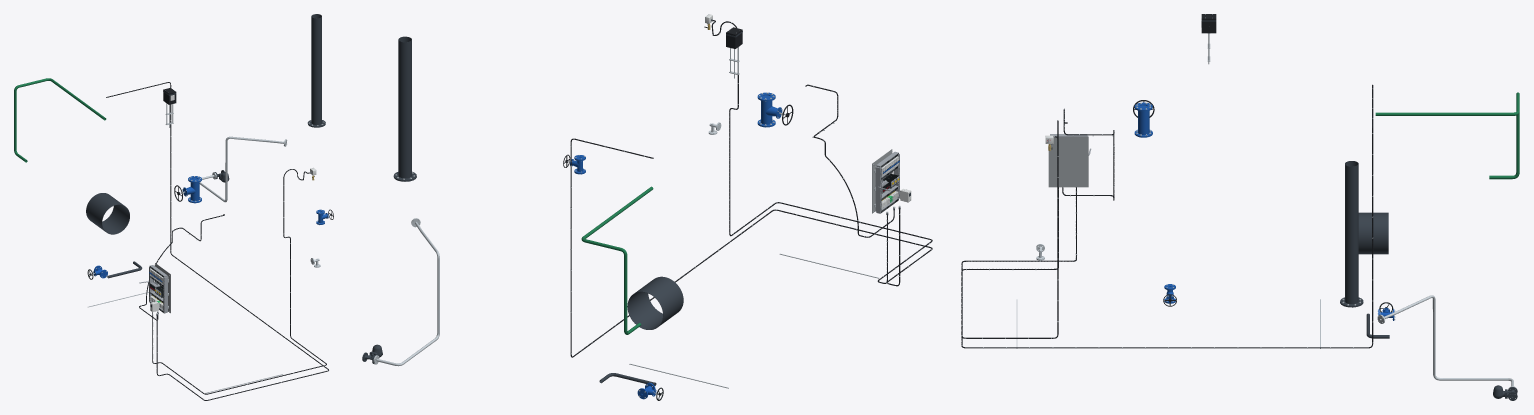
The picture shows the model from 3 angles, left to right: view 1: azimuth 30°, elevation 25°; view 2: azimuth 150°, elevation 25°; view 3: azimuth 270°, elevation 25°; orthographic projection. The views are drawn at different scales.
Parts seen in each view (by area): view 1: bdv_vent / dark, flue_spacer / dark, mod_direct_drive_cable / black, cabinet_interior / cabinet_interior_0.npz, wiring_pressure_switch_2 / black, from_economizer / green, trap_gap_to_bdv / steel, steam_manual / blue; view 2: bdv_vent / dark, flue_spacer / dark, cabinet_interior / cabinet_interior_0.npz, mod_direct_drive_cable / black, wiring_pressure_switch_2 / black, from_economizer / green, trap_gap_to_bdv / steel, steam_manual / blue; view 3: cabinet_interior / cabinet_interior_0.npz, bdv_vent / dark, mod_direct_drive_cable / black, flue_spacer / dark, wiring_pressure_switch_2 / black, from_economizer / green, trap_gap_to_bdv / steel, steam_manual / blue.
Boxes of the visible parts, x1,y1,x2,y2 form: bdv_vent / dark: [307, 14, 325, 127]; flue_spacer / dark: [86, 193, 129, 234]; mod_direct_drive_cable / black: [106, 82, 328, 400]; cabinet_interior / cabinet_interior_0.npz: [139, 263, 170, 313]; wiring_pressure_switch_2 / black: [152, 169, 326, 394]; from_economizer / green: [14, 78, 106, 162]; trap_gap_to_bdv / steel: [199, 136, 287, 202]; steam_manual / blue: [182, 176, 201, 203]; bdv_vent / dark: [393, 36, 416, 181]; flue_spacer / dark: [627, 276, 683, 329]; cabinet_interior / cabinet_interior_0.npz: [872, 149, 899, 213]; mod_direct_drive_cable / black: [570, 138, 932, 357]; wiring_pressure_switch_2 / black: [711, 20, 932, 283]; from_economizer / green: [581, 186, 653, 334]; trap_gap_to_bdv / steel: [373, 218, 439, 366]; steam_manual / blue: [757, 92, 782, 127]; cabinet_interior / cabinet_interior_0.npz: [1048, 134, 1091, 187]; bdv_vent / dark: [1340, 161, 1363, 307]; mod_direct_drive_cable / black: [961, 84, 1373, 348]; flue_spacer / dark: [1358, 212, 1388, 254]; wiring_pressure_switch_2 / black: [961, 120, 1076, 338]; from_economizer / green: [1375, 92, 1519, 179]; trap_gap_to_bdv / steel: [1377, 295, 1517, 394]; steam_manual / blue: [1134, 102, 1152, 137].
Size of the model in its own units: 5.2 by 4.12 by 6.76.
